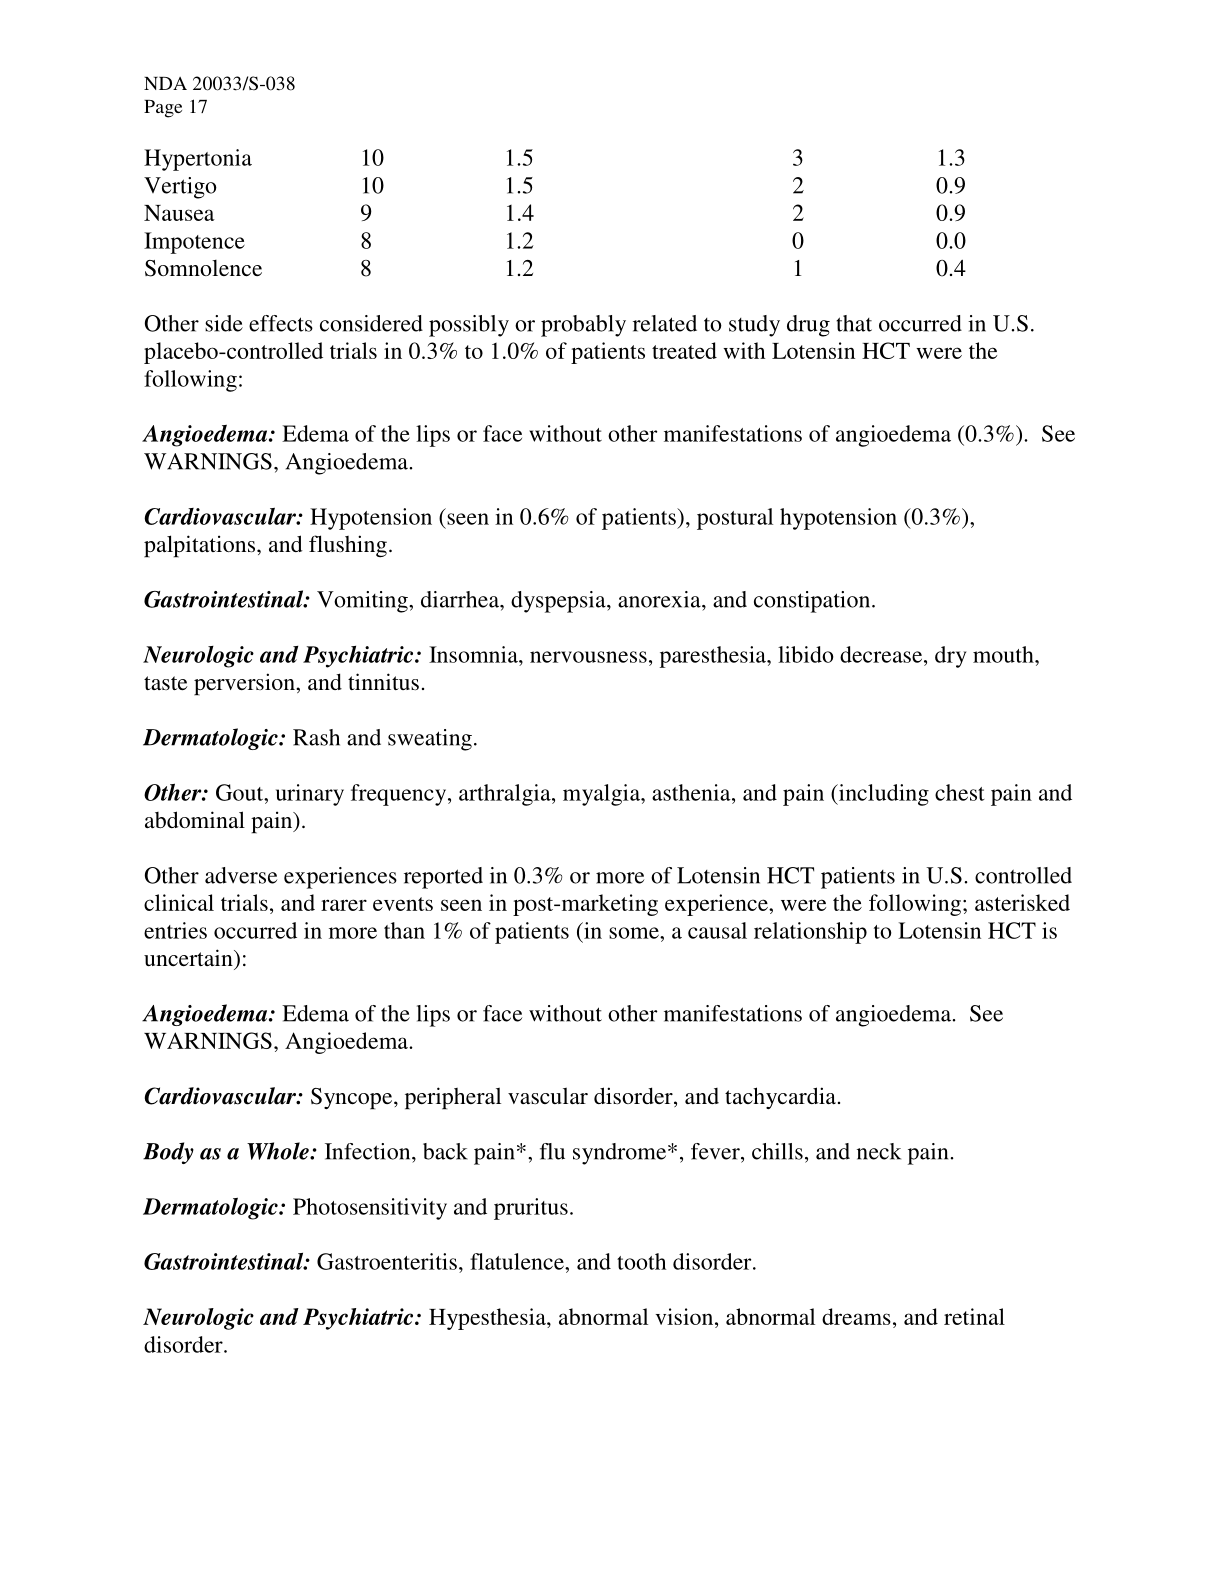nolines: (141, 141, 972, 282)
